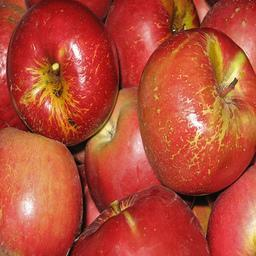apple: (136, 27, 255, 197), (4, 1, 119, 144), (82, 87, 165, 211), (1, 132, 83, 256), (78, 188, 215, 253), (103, 1, 200, 85)
